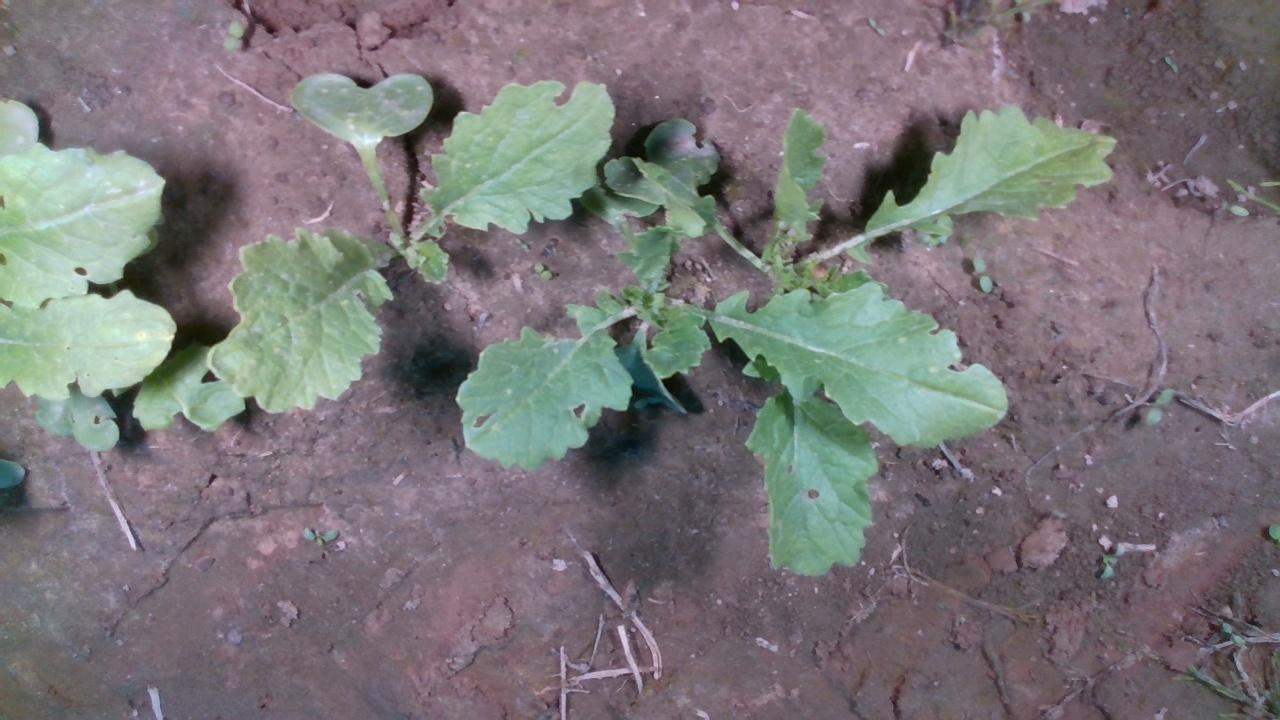weed: (1143, 385, 1174, 427), (970, 252, 992, 293), (300, 525, 339, 545), (532, 261, 552, 282)
